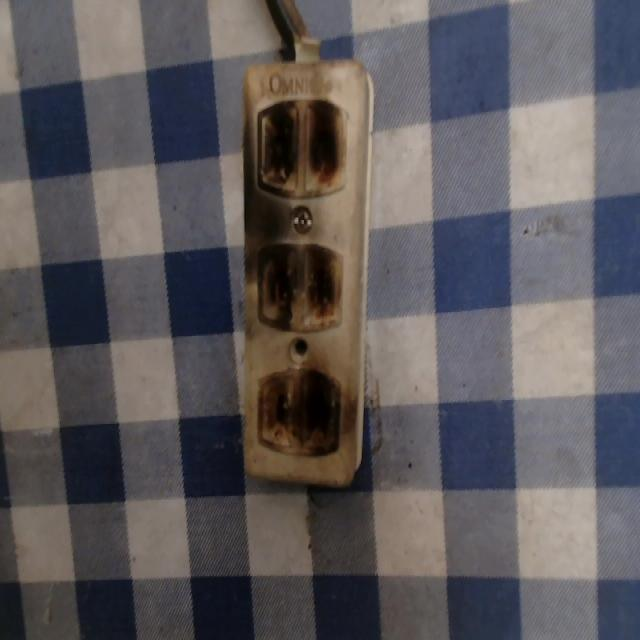-: (253, 96, 350, 199), (253, 239, 344, 329), (254, 364, 340, 455)
